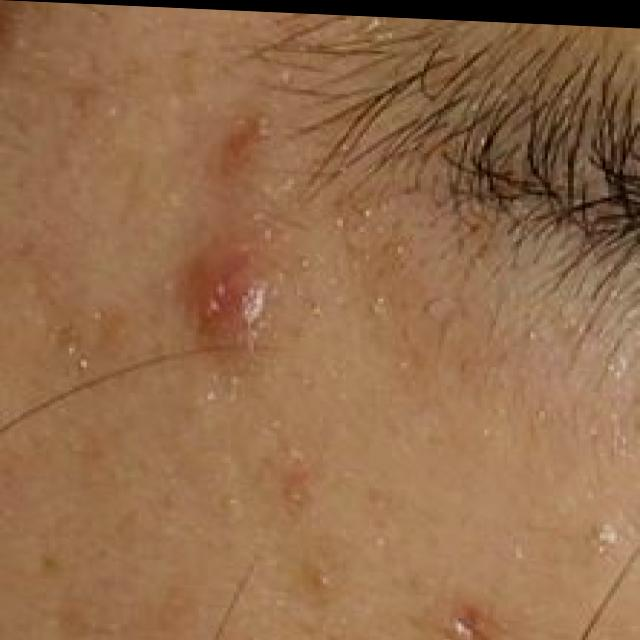blackheads: (198, 240, 300, 364), (439, 595, 512, 640), (303, 550, 347, 600)
